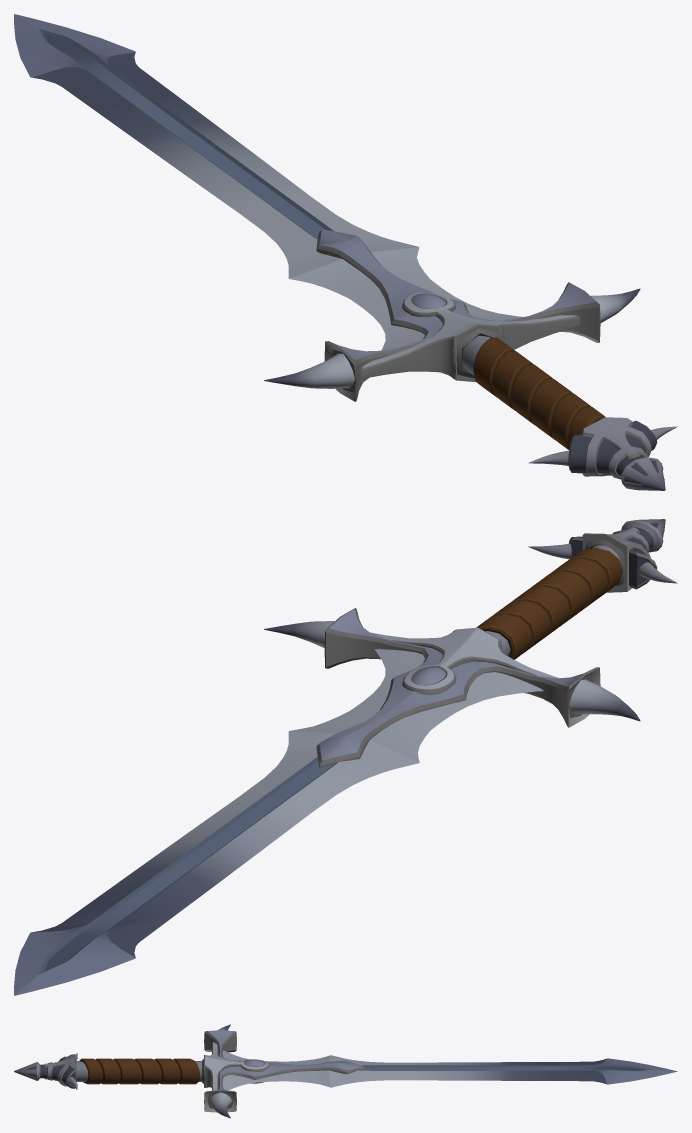
Rendered from Bloodgrove sword.fbx.
3 views of the same model, one above another, from view 1: azimuth 30°, elevation 25°; view 2: azimuth 150°, elevation 25°; view 3: azimuth 270°, elevation 25° (orthographic). The views are drawn at different scales.
Parts seen in each view (by area): view 1: Cube.009; view 2: Cube.009; view 3: Cube.009.
Part boxes in pixels (box(x1,y1,x2,y2)): Cube.009: box(14, 14, 677, 490); Cube.009: box(14, 519, 677, 995); Cube.009: box(14, 1024, 677, 1118).
Size of the model in its own units: 2.66 by 0.3957 by 7.95.
